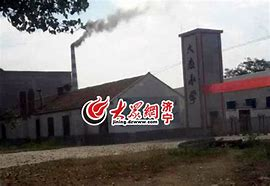smoke: (69, 6, 136, 47)
